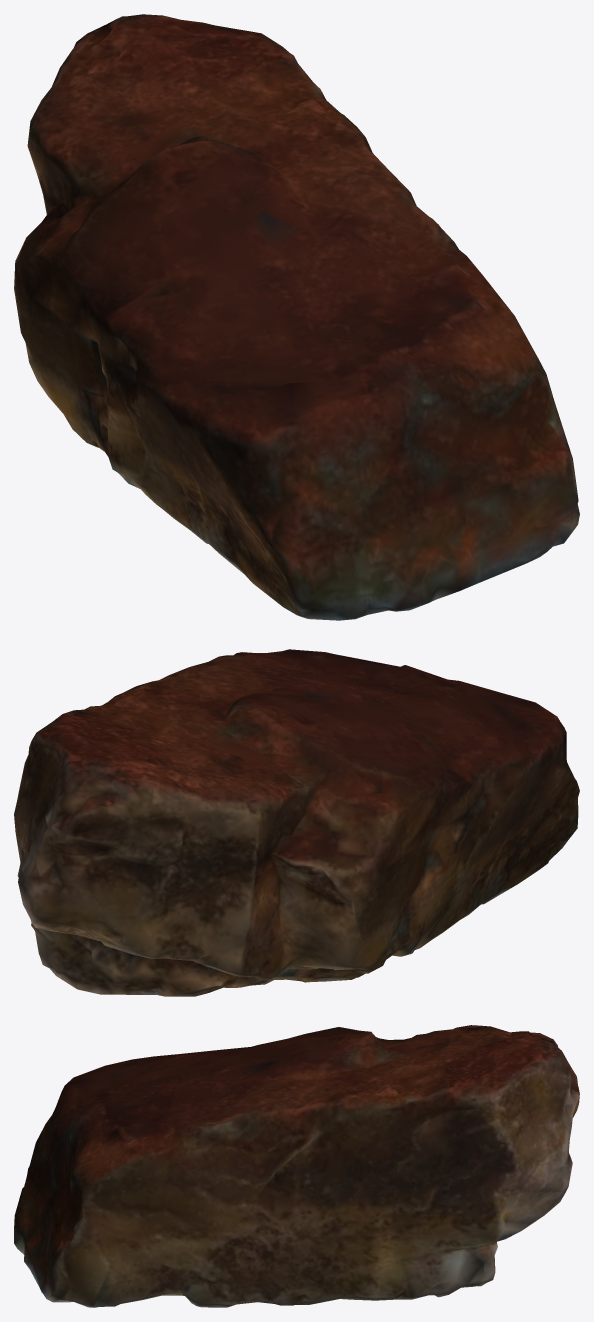
Rendered from rock_07.glb.
The picture shows the model from 3 angles, top to bottom: view 1: azimuth 30°, elevation 25°; view 2: azimuth 150°, elevation 25°; view 3: azimuth 270°, elevation 25°; orthographic projection. The views are drawn at different scales.
Visible parts, largest first — view 1: rock_07; view 2: rock_07; view 3: rock_07.
Part boxes in pixels (x1,y1,x2,y2): rock_07: [14, 14, 579, 620]; rock_07: [14, 649, 579, 996]; rock_07: [14, 1025, 579, 1307].
Size of the model in its own units: 0.1681 by 0.1437 by 0.3199.
1 material, 1 textured.
